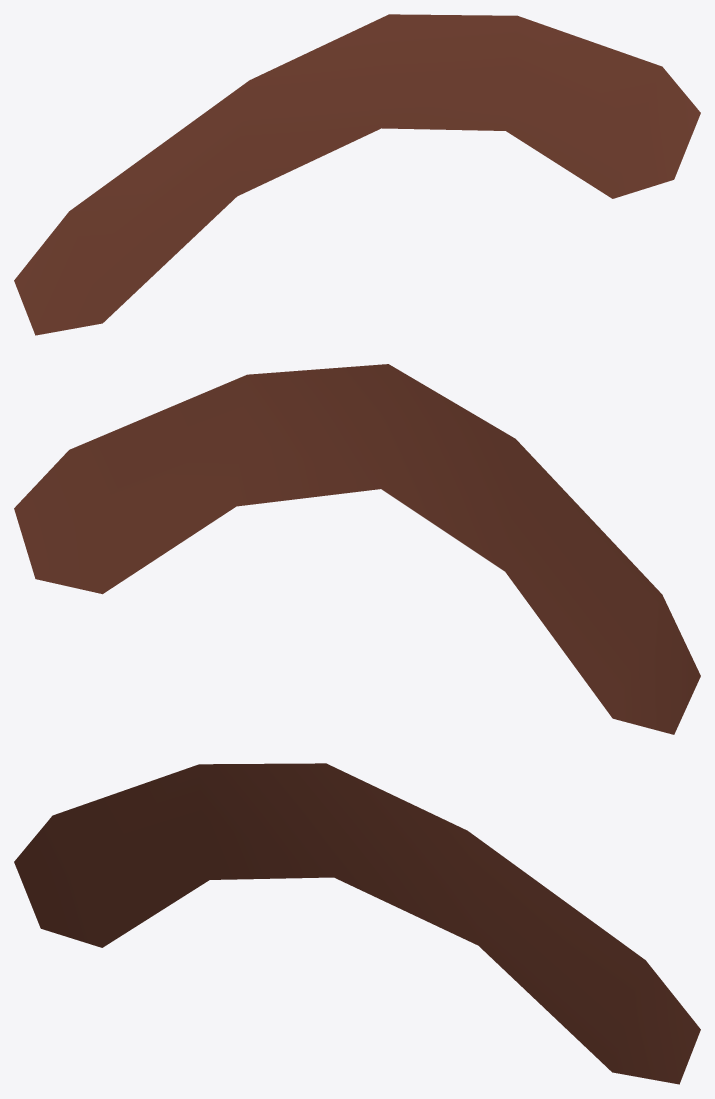
Rendered from Mouth_Brown_4.fbx.
3 renders of one model, top to bottom at view 1: azimuth 30°, elevation 25°; view 2: azimuth 150°, elevation 25°; view 3: azimuth 330°, elevation 25°, orthographic.
Parts seen in each view (by area): view 1: Mouth_Brown_4; view 2: Mouth_Brown_4; view 3: Mouth_Brown_4.
Part boxes in pixels (<box>): Mouth_Brown_4: <box>14,14,700,335</box>; Mouth_Brown_4: <box>14,364,700,734</box>; Mouth_Brown_4: <box>14,763,700,1084</box>.
Size of the model in its own units: 6.25 by 2.35 by 0.5357.
